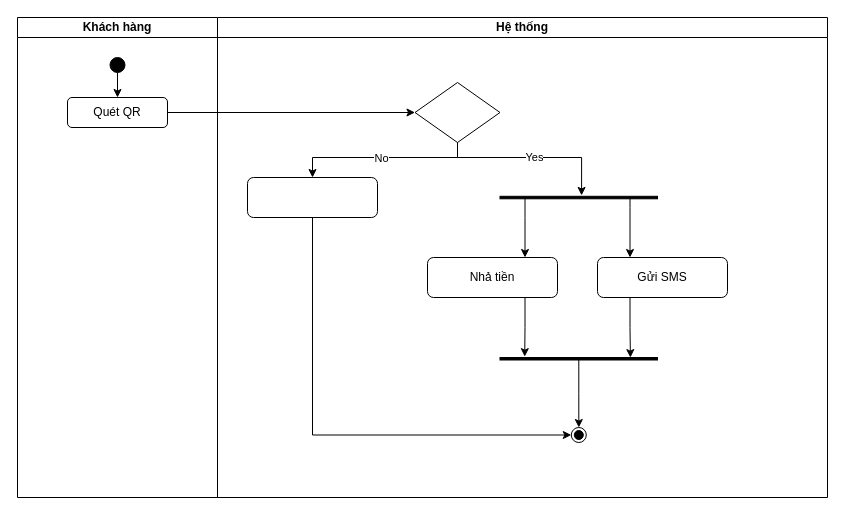
This 845x515 diagram has some shape labels left out. Each missing label, with the centre of its shape:
Báo lỗi: point (312, 197)
Kiểm tra số dư: point (457, 112)
